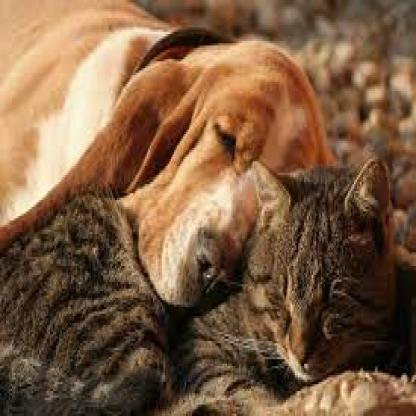cat: (242, 168, 416, 391)
dog: (126, 11, 270, 323)
